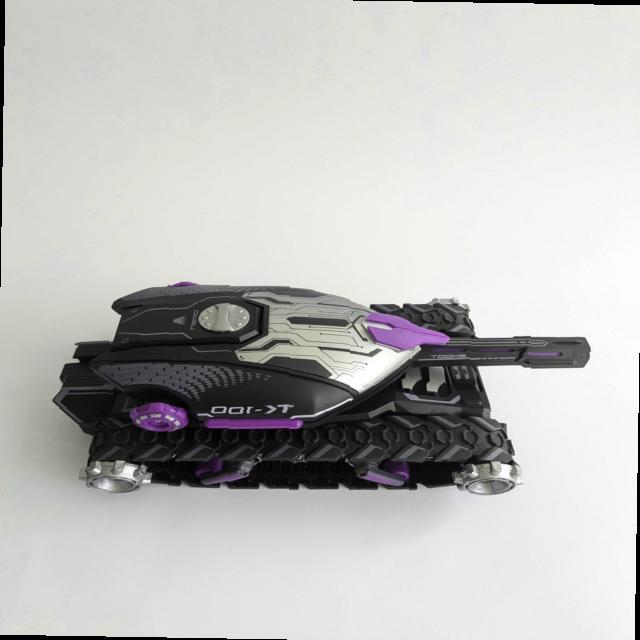barrel: (414, 336, 593, 368)
